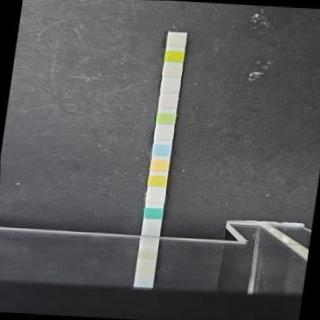mark: (164, 49, 184, 62), (166, 34, 187, 46), (159, 94, 177, 108), (157, 111, 176, 124), (146, 190, 164, 203), (154, 128, 172, 140), (152, 143, 170, 155), (148, 174, 166, 186), (144, 208, 162, 220), (161, 80, 180, 91), (163, 66, 181, 77), (150, 160, 168, 171)
